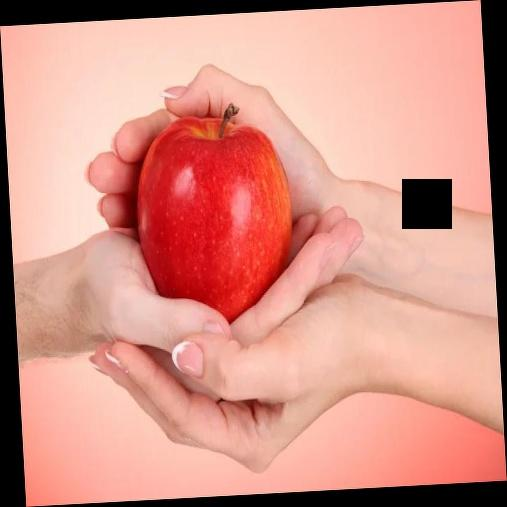red apple: (138, 114, 298, 326)
